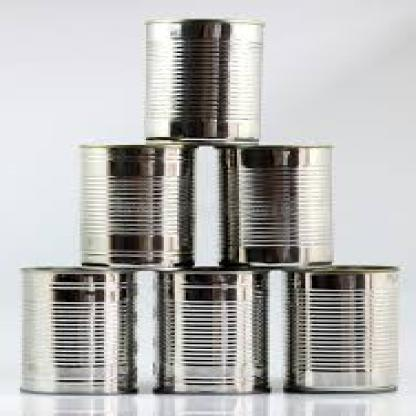Compsot: (150, 266, 268, 394), (139, 17, 259, 142), (20, 268, 137, 394), (78, 144, 192, 270), (215, 144, 332, 266), (290, 265, 392, 391)
